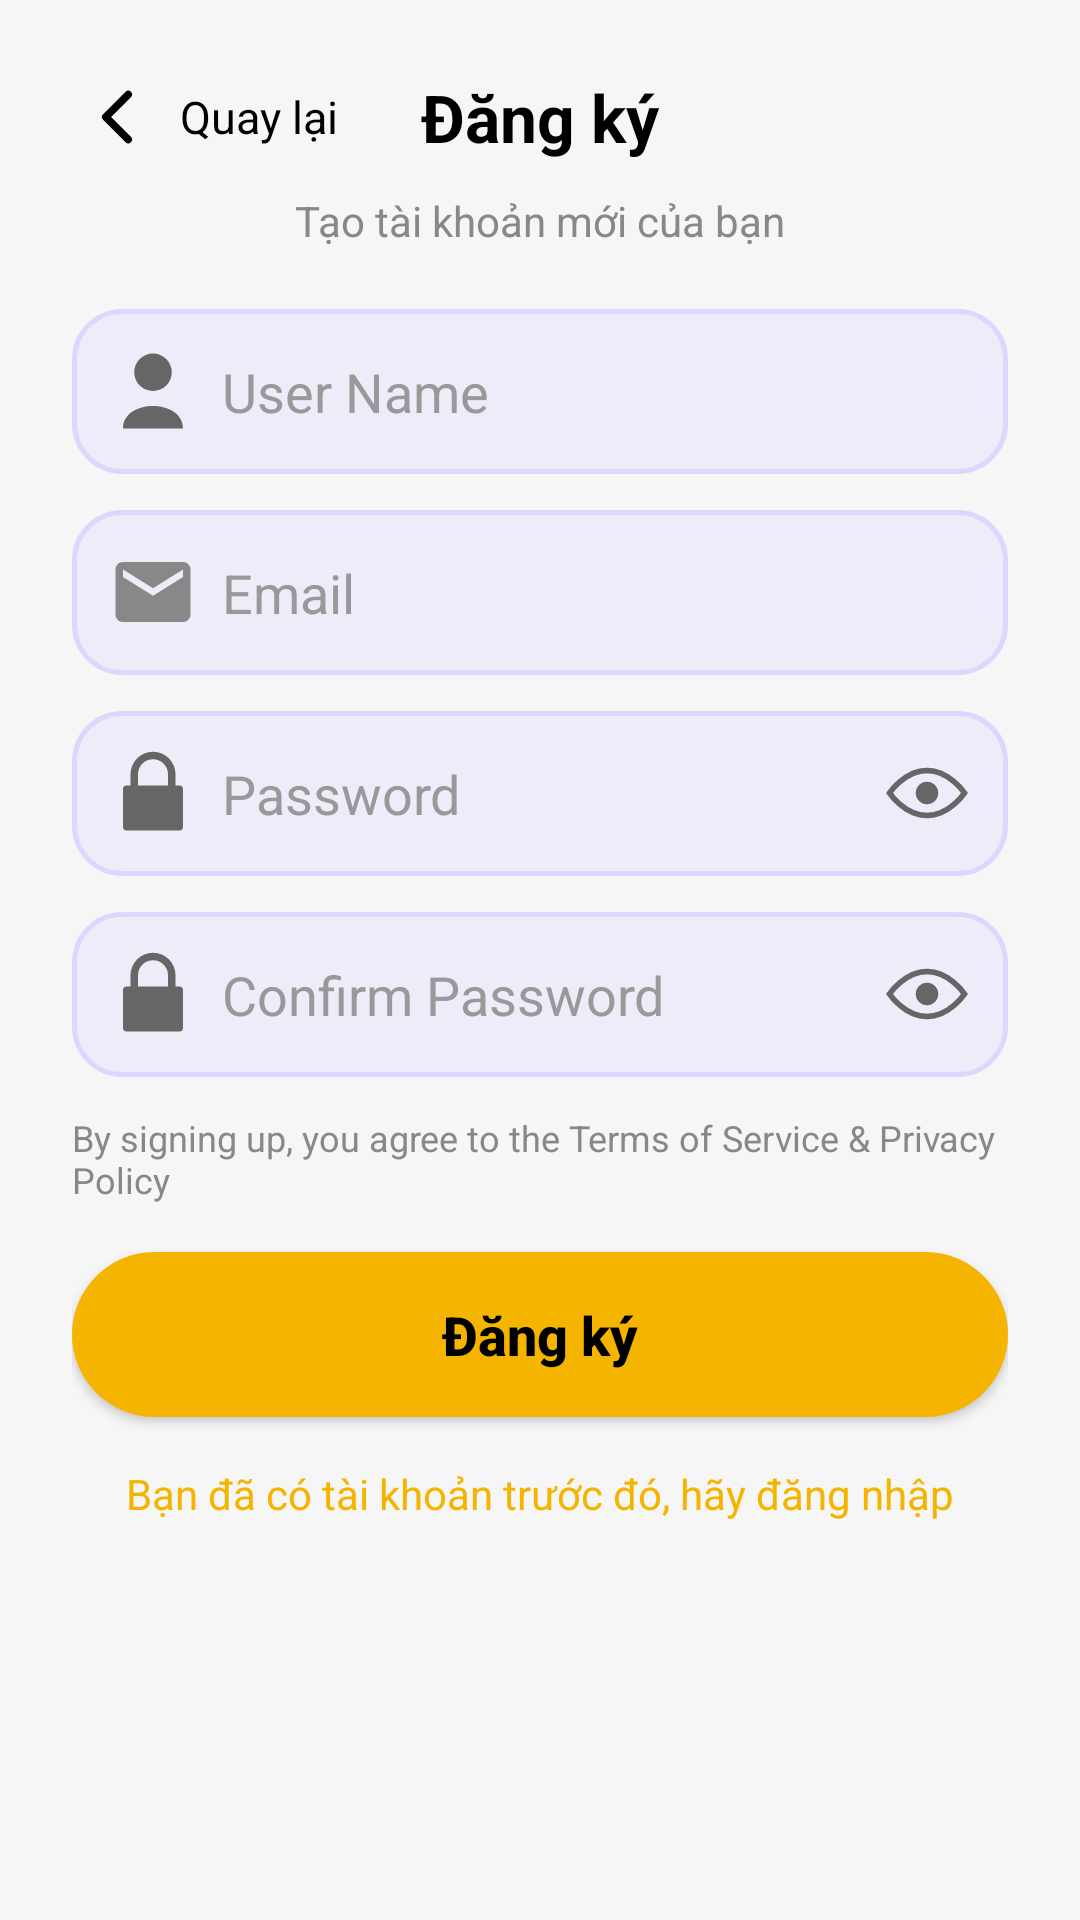

Icons on this 1080×1920 Android screen, each with the point to tap as (x,y):
back: (117,117)
eye: (927,793), (927,994)
lock: (153,791), (153,992)
